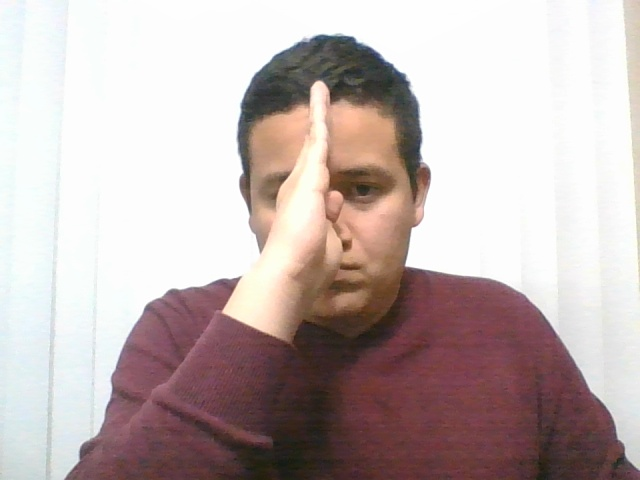God: (148, 51, 460, 367)
